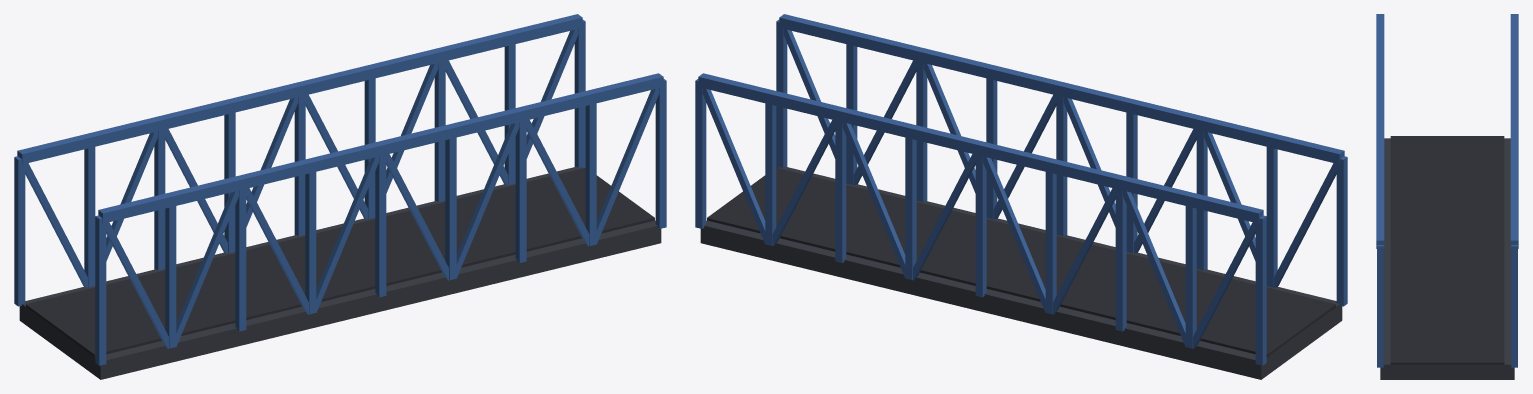
Rendered from town_iron_truss_bridge.glb.
The picture shows the model from 3 angles, left to right: view 1: azimuth 30°, elevation 25°; view 2: azimuth 150°, elevation 25°; view 3: azimuth 270°, elevation 25°; orthographic projection. The views are drawn at different scales.
Visible parts, largest first — view 1: iron_truss_bridge; view 2: iron_truss_bridge; view 3: iron_truss_bridge.
Boxes of the visible parts, left/top/right/bottom form: iron_truss_bridge: left=14, top=14, right=666, bottom=379; iron_truss_bridge: left=695, top=14, right=1347, bottom=379; iron_truss_bridge: left=1376, top=14, right=1518, bottom=379.
Bounding box in the file's own units: 8.1 × 2.29 × 2.12.
